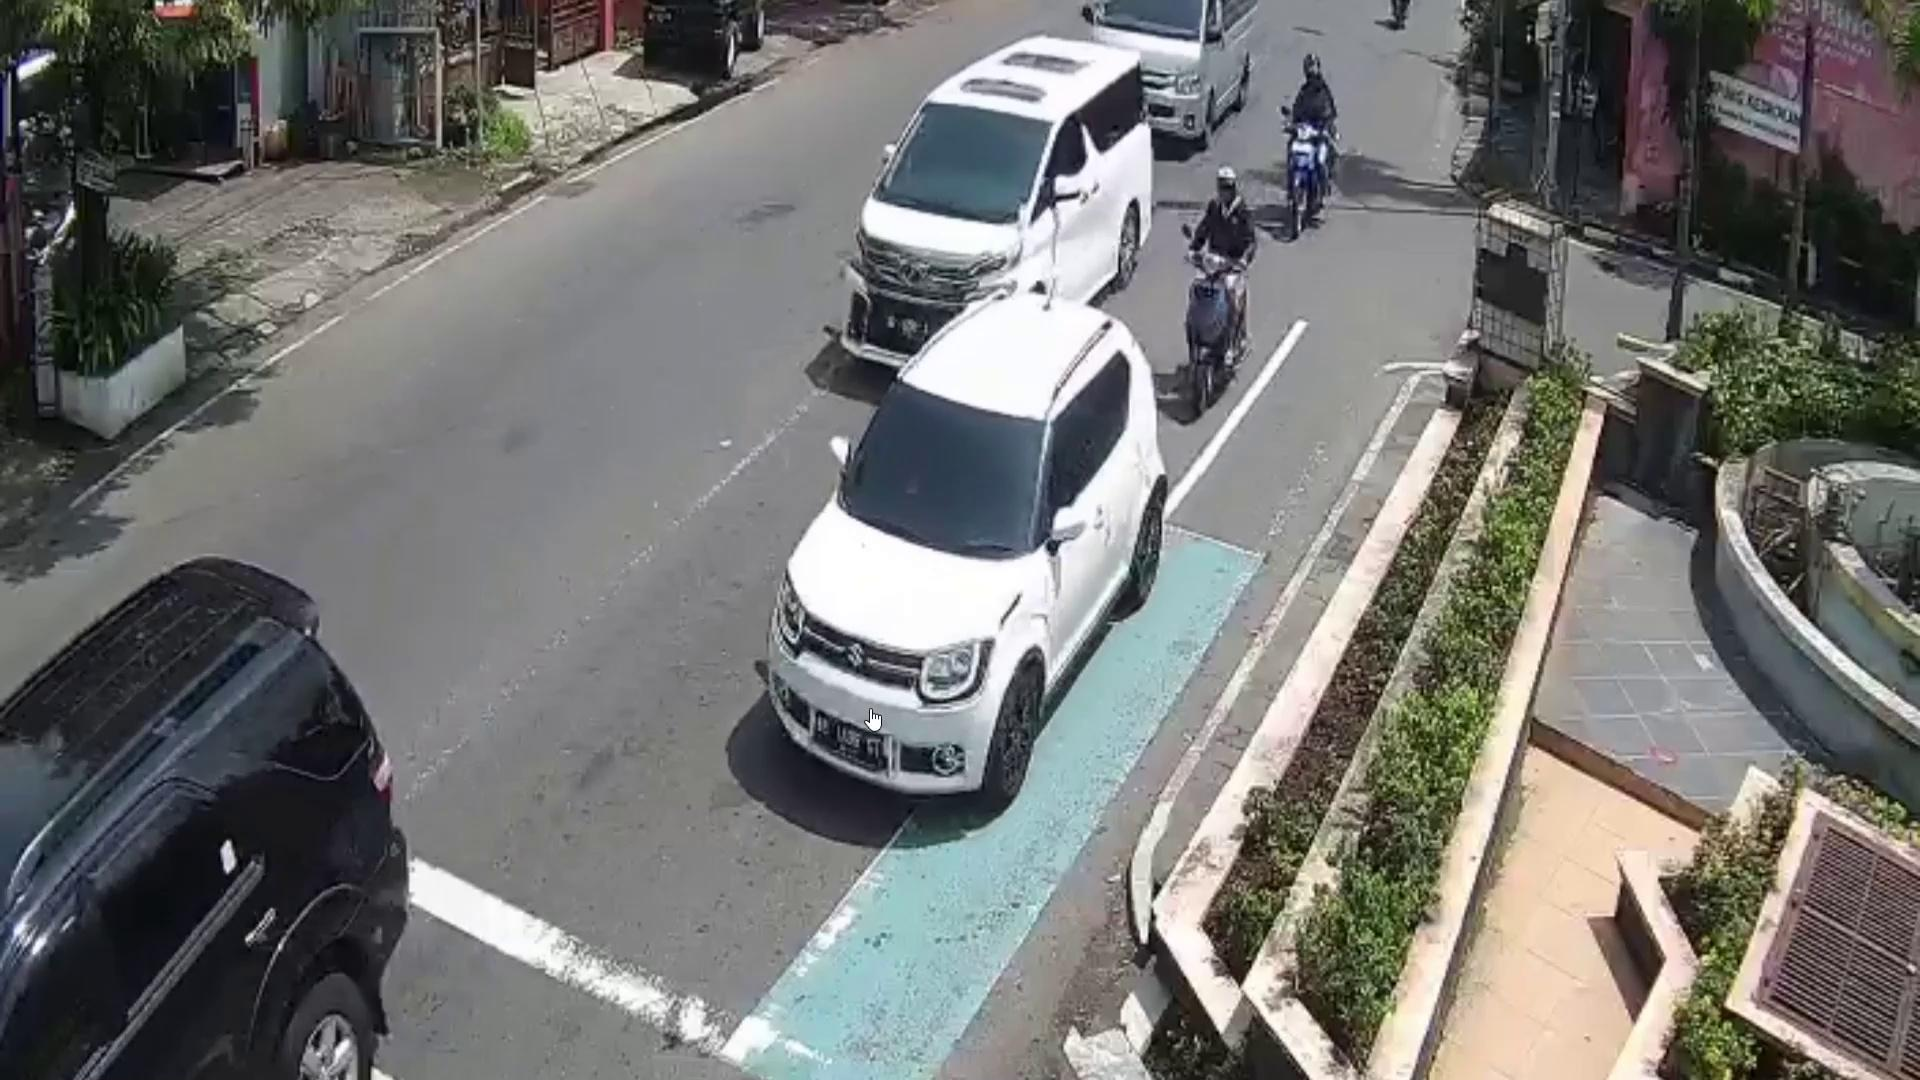car: (0, 554, 409, 1080), (764, 293, 1166, 812), (848, 32, 1153, 386), (1083, 0, 1251, 145)
motorbike: (1187, 247, 1230, 418), (1279, 116, 1336, 244)
